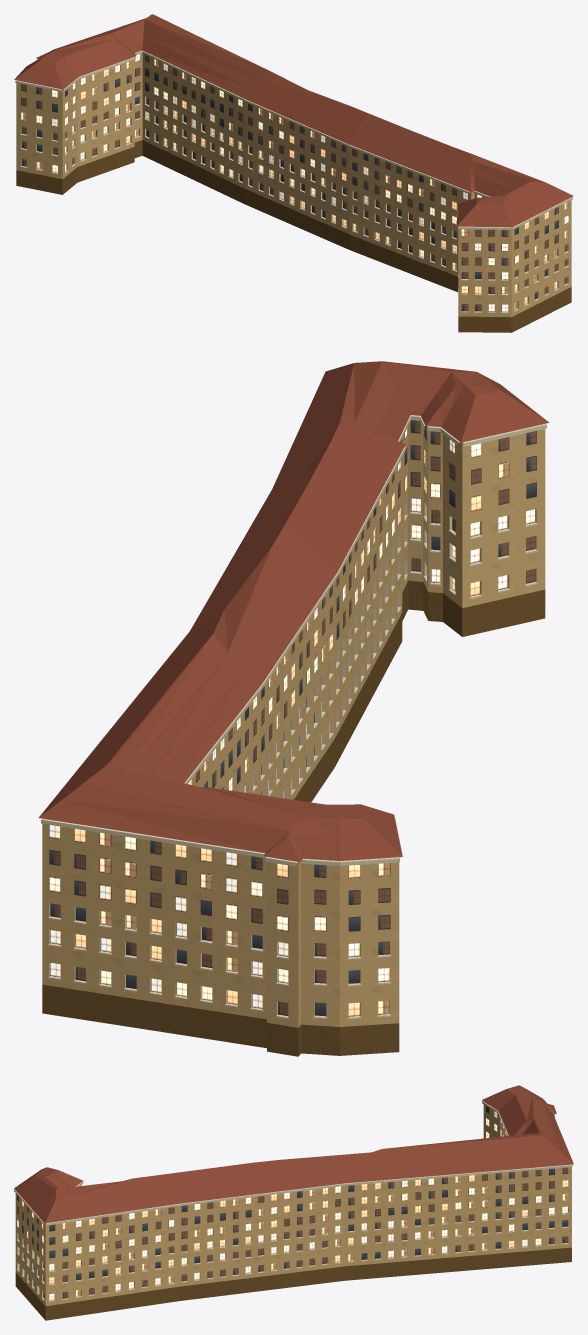
File: roentgen_zeile.glb
3 renders of one model, top to bottom at view 1: azimuth 30°, elevation 25°; view 2: azimuth 150°, elevation 25°; view 3: azimuth 270°, elevation 25°, orthographic. The views are drawn at different scales.
Visible parts, largest first — view 1: roentgen_zeile; view 2: roentgen_zeile; view 3: roentgen_zeile.
Boxes of the visible parts, left/top/right/bottom form: roentgen_zeile: left=14, top=14, right=573, bottom=332; roentgen_zeile: left=39, top=361, right=549, bottom=1056; roentgen_zeile: left=14, top=1085, right=573, bottom=1320.
Bounding box in the file's own units: 60.37 × 24.46 × 105.
3 materials, 3 textured.
